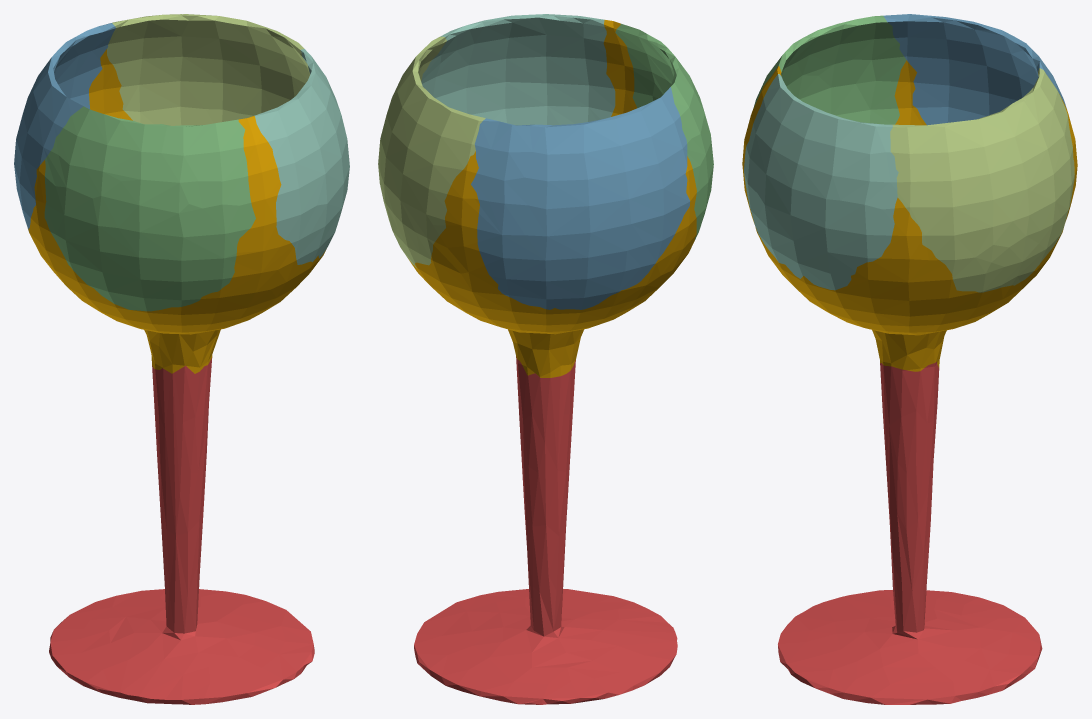
Rendered from mode_8_6pcs.glb.
3 views of the same model, side by side, from view 1: azimuth 30°, elevation 25°; view 2: azimuth 150°, elevation 25°; view 3: azimuth 270°, elevation 25° (orthographic).
Parts seen in each view (by area): view 1: piece_1.obj, piece_3.obj, piece_5.obj, piece_0.obj, piece_4.obj, piece_2.obj; view 2: piece_2.obj, piece_1.obj, piece_4.obj, piece_0.obj, piece_5.obj, piece_3.obj; view 3: piece_1.obj, piece_5.obj, piece_4.obj, piece_0.obj, piece_2.obj, piece_3.obj.
Boxes of the visible parts, bbox=[...] form: piece_1.obj: bbox=[49, 357, 314, 704]; piece_3.obj: bbox=[44, 106, 255, 311]; piece_5.obj: bbox=[107, 14, 309, 125]; piece_0.obj: bbox=[28, 49, 326, 373]; piece_4.obj: bbox=[254, 49, 349, 264]; piece_2.obj: bbox=[14, 23, 115, 229]; piece_2.obj: bbox=[471, 87, 690, 309]; piece_1.obj: bbox=[414, 356, 677, 704]; piece_4.obj: bbox=[421, 14, 615, 125]; piece_0.obj: bbox=[408, 20, 696, 377]; piece_5.obj: bbox=[378, 36, 485, 267]; piece_3.obj: bbox=[615, 23, 713, 239]; piece_1.obj: bbox=[778, 362, 1042, 704]; piece_5.obj: bbox=[890, 68, 1074, 292]; piece_4.obj: bbox=[744, 74, 898, 290]; piece_0.obj: bbox=[742, 60, 1077, 371]; piece_2.obj: bbox=[883, 14, 1066, 125]; piece_3.obj: bbox=[753, 15, 906, 124].
Size of the model in its own units: 0.5232 by 1 by 0.5233.
